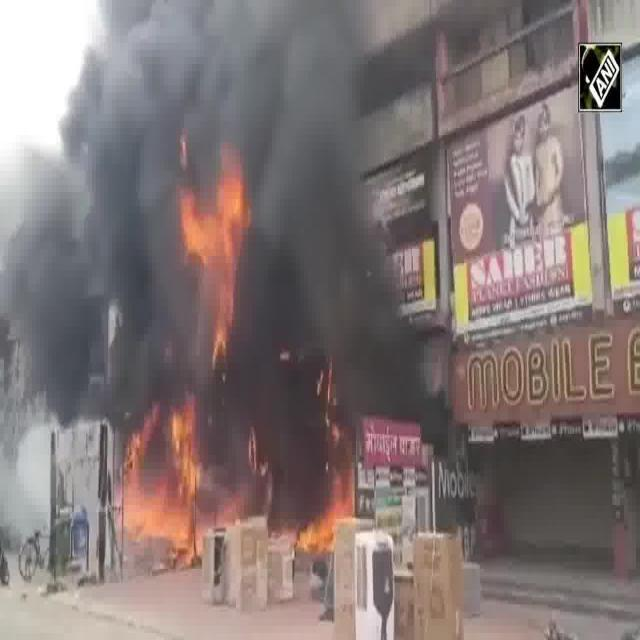Smoke: (97, 0, 333, 158), (13, 183, 174, 403), (262, 172, 364, 372)
